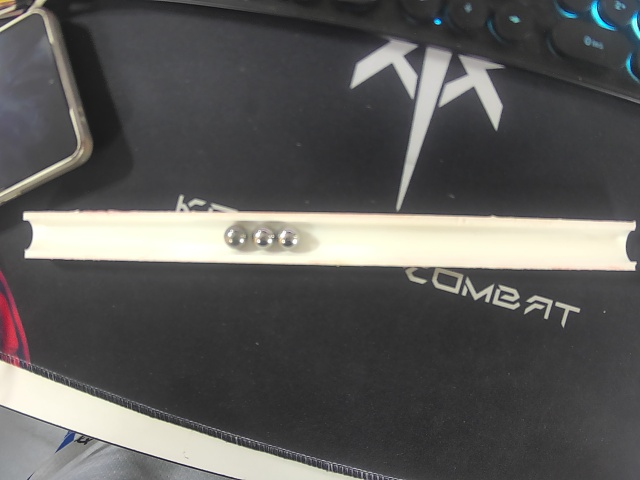steelball: (252, 225, 276, 250), (277, 226, 301, 250), (224, 224, 247, 249)
